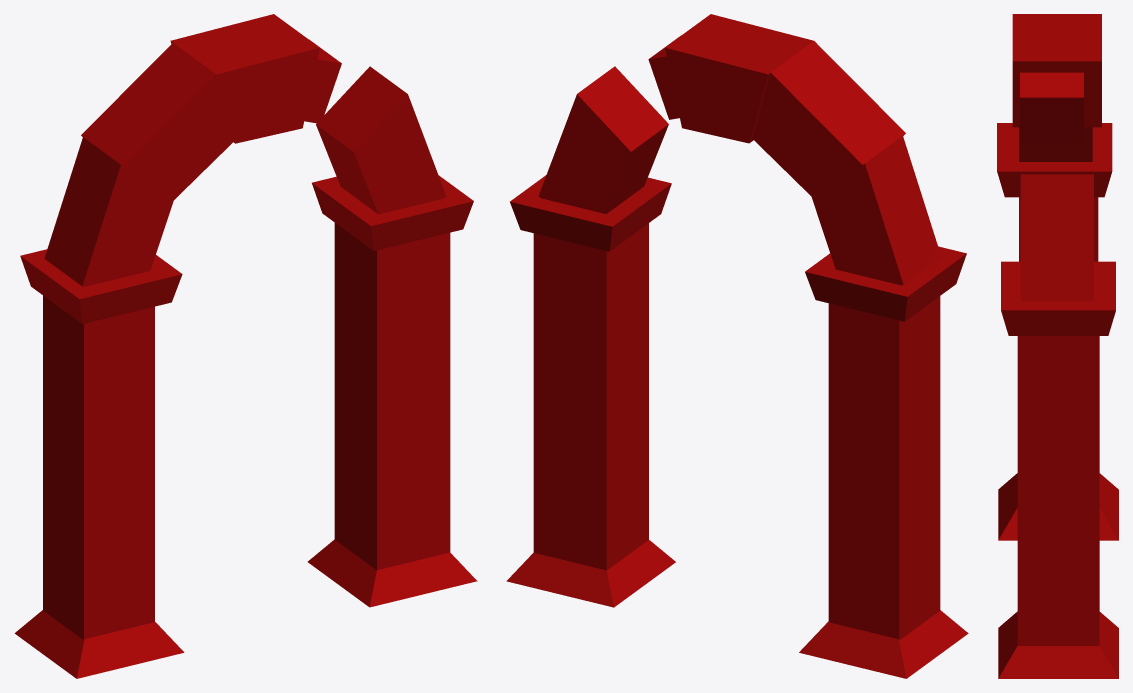
The model's file is SM_Bld_Ruins_Archway_01_Collision.glb.
The picture shows the model from 3 angles, left to right: view 1: azimuth 30°, elevation 25°; view 2: azimuth 150°, elevation 25°; view 3: azimuth 270°, elevation 25°; orthographic projection. The views are drawn at different scales.
Parts seen in each view (by area): view 1: SM_Bld_Ruins_Archway_01_Collision; view 2: SM_Bld_Ruins_Archway_01_Collision; view 3: SM_Bld_Ruins_Archway_01_Collision.
Part boxes in pixels (x1,y1,x2,y2): SM_Bld_Ruins_Archway_01_Collision: [14, 14, 477, 678]; SM_Bld_Ruins_Archway_01_Collision: [506, 14, 968, 678]; SM_Bld_Ruins_Archway_01_Collision: [997, 14, 1118, 678].
Bounding box in the file's own units: 6.52 × 8.82 × 1.77.
